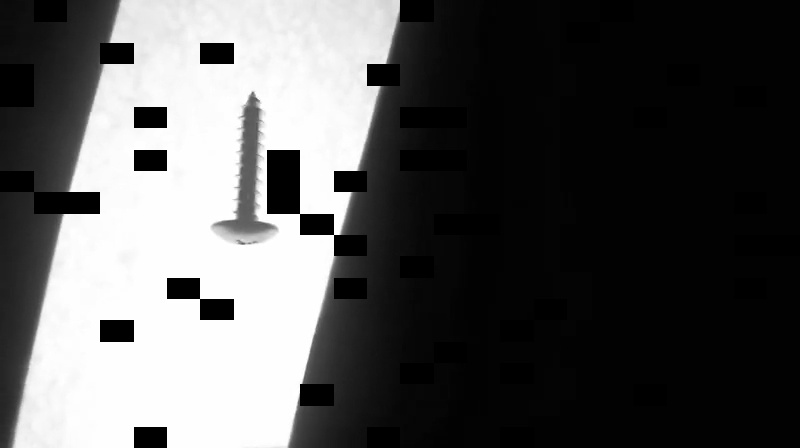S003: (207, 88, 282, 250)
